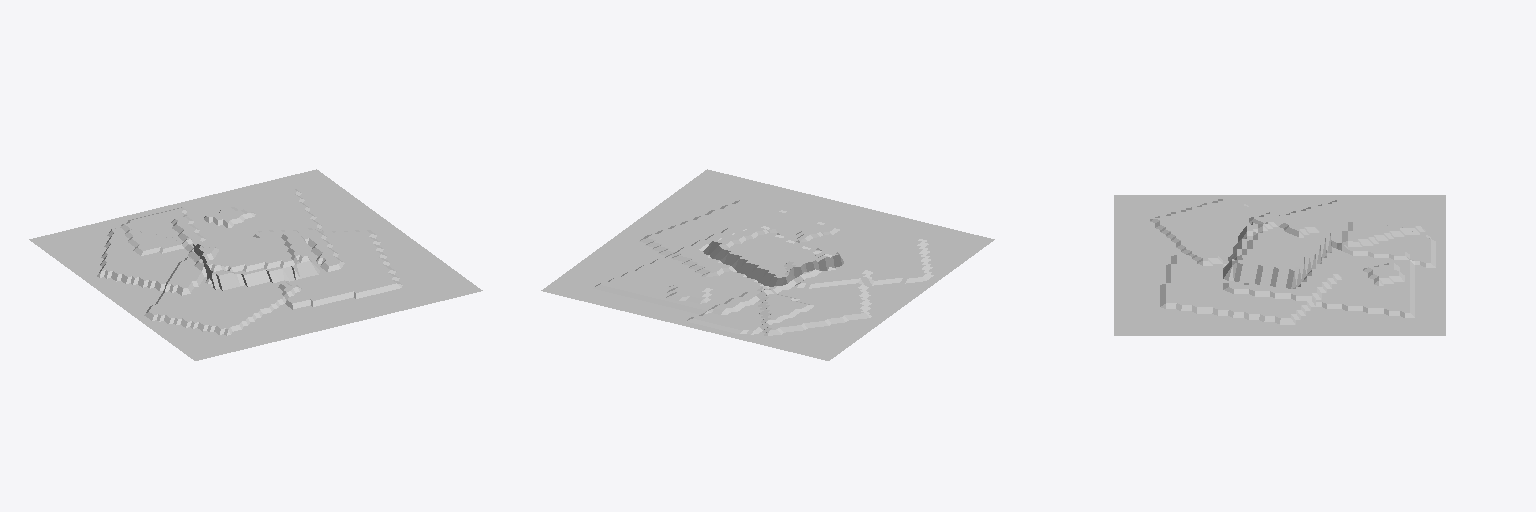
Rendered from land.obj.
3 views of the same model, side by side, from view 1: azimuth 30°, elevation 25°; view 2: azimuth 150°, elevation 25°; view 3: azimuth 270°, elevation 25° (orthographic).
Visible parts, largest first — view 1: Plane; view 2: Plane; view 3: Plane.
Part boxes in pixels (bbox=[...]): Plane: bbox=[29, 169, 482, 360]; Plane: bbox=[541, 169, 994, 360]; Plane: bbox=[1114, 195, 1445, 335].
Bounding box in the file's own units: 367 × 22.66 × 367.